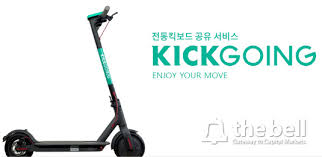kick_board: (3, 6, 145, 156)
kick_body: (35, 141, 106, 151)
kick_handler: (87, 5, 118, 33)
kick_neck: (93, 36, 126, 119)
kick_wheel: (113, 130, 146, 155), (3, 129, 33, 156)
